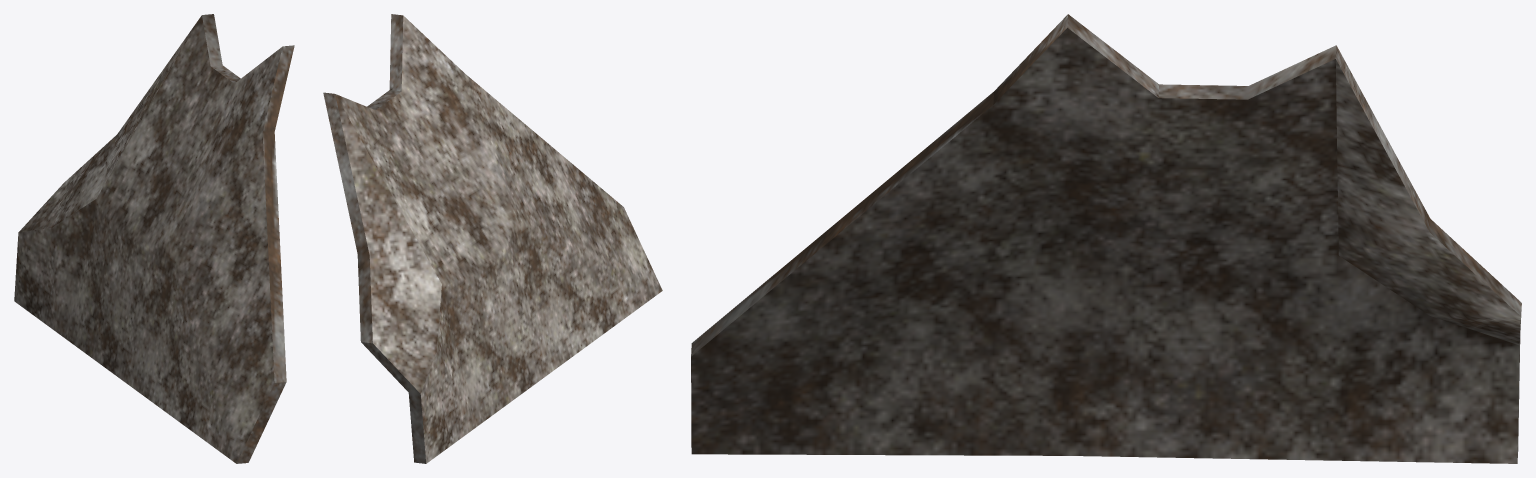
Rendered from RuinaEdificio1.obj.
3 renders of one model, left to right at view 1: azimuth 30°, elevation 25°; view 2: azimuth 150°, elevation 25°; view 3: azimuth 270°, elevation 25°, orthographic. The views are drawn at different scales.
Visible parts, largest first — view 1: RuinaEdificio1; view 2: RuinaEdificio1; view 3: RuinaEdificio1.
Part boxes in pixels (x1,y1,x2,y2): RuinaEdificio1: [14, 14, 294, 463]; RuinaEdificio1: [323, 14, 662, 463]; RuinaEdificio1: [691, 14, 1521, 463].
Bounding box in the file's own units: 27.47 × 50.8 × 67.23.
Materials: 1 (1 with a texture image).
